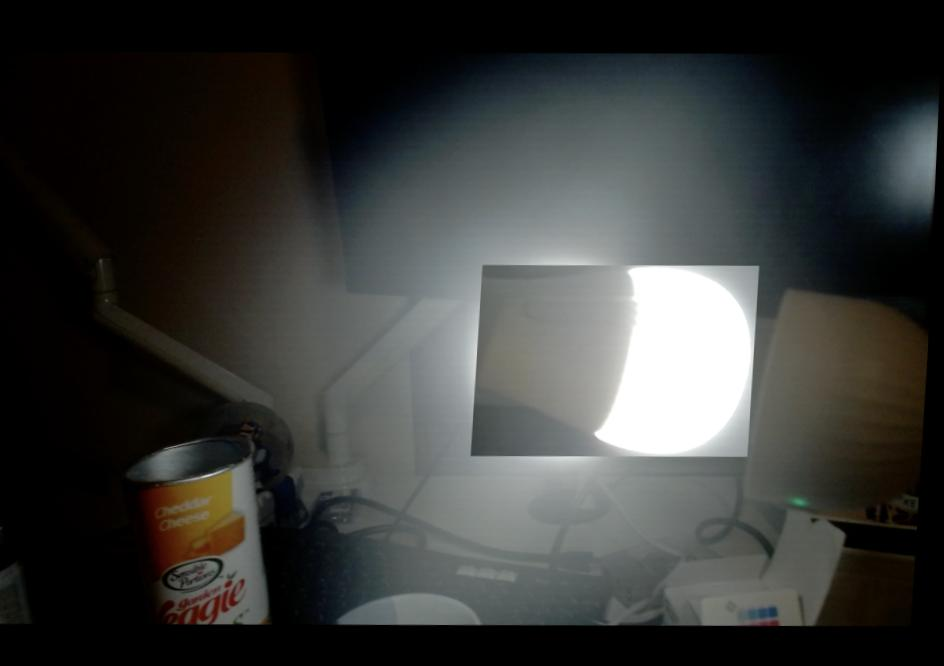TubeLight: (474, 263, 761, 462)
